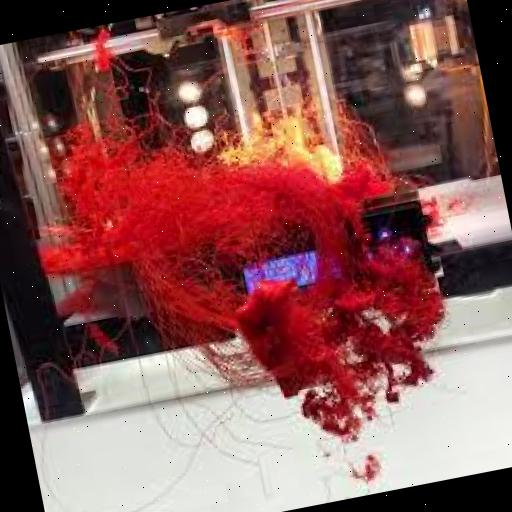spaghetti: (21, 44, 486, 496)
